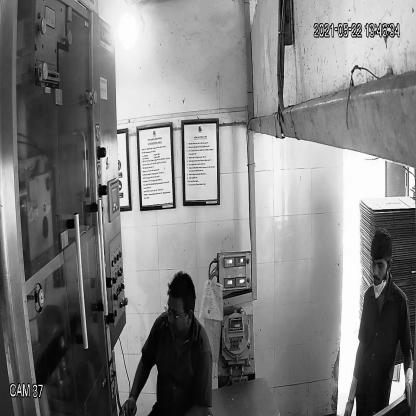goggles: (162, 304, 192, 324)
no_goggles: (369, 254, 391, 272)
